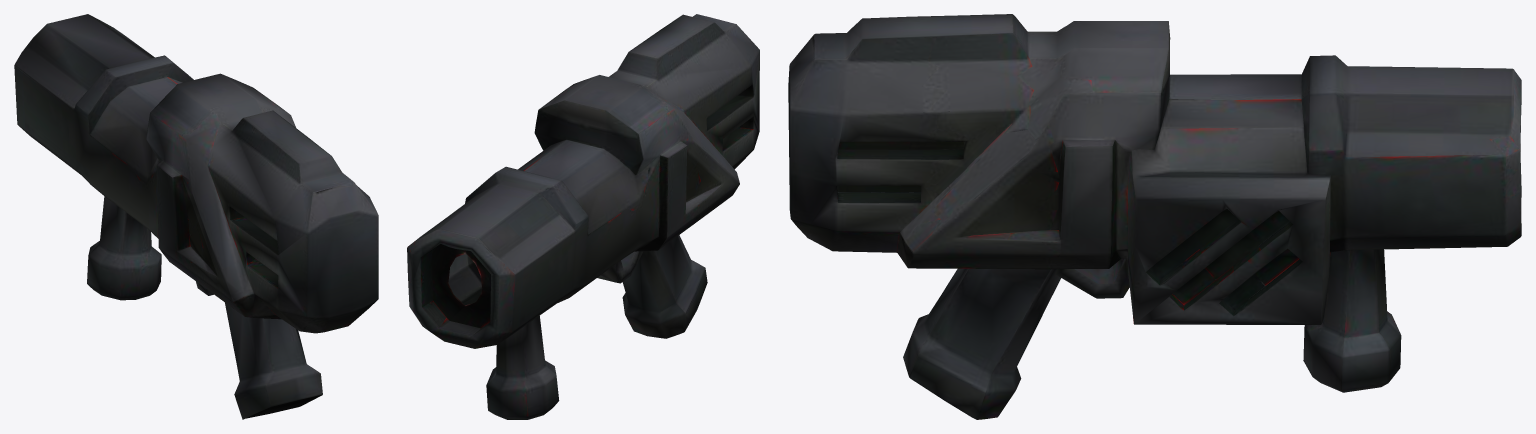
File: launcher.glb
The picture shows the model from 3 angles, left to right: view 1: azimuth 30°, elevation 25°; view 2: azimuth 150°, elevation 25°; view 3: azimuth 270°, elevation 25°; orthographic projection. The views are drawn at different scales.
Parts seen in each view (by area): view 1: geometry_0; view 2: geometry_0; view 3: geometry_0.
Boxes of the visible parts, left/top/right/bottom form: geometry_0: left=14, top=14, right=378, bottom=419; geometry_0: left=407, top=14, right=759, bottom=419; geometry_0: left=788, top=14, right=1521, bottom=419.
Bounding box in the file's own units: 0.144 × 0.2975 × 0.5144.
Materials: 1 (1 with a texture image).
